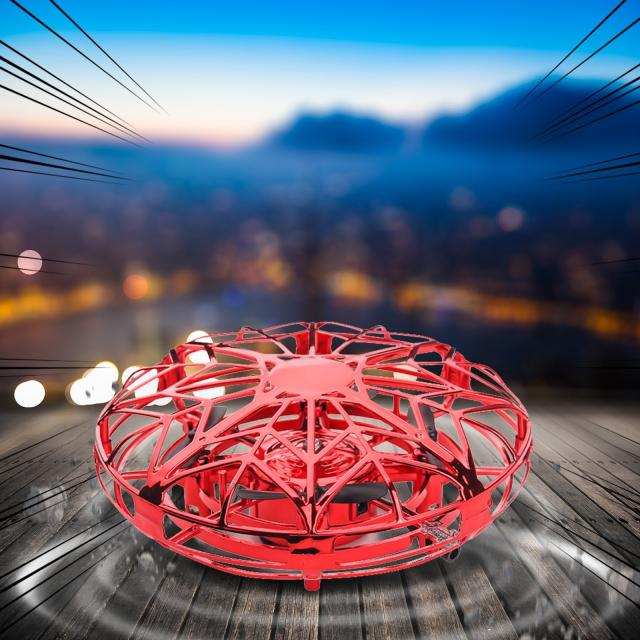drone: (91, 315, 533, 595)
